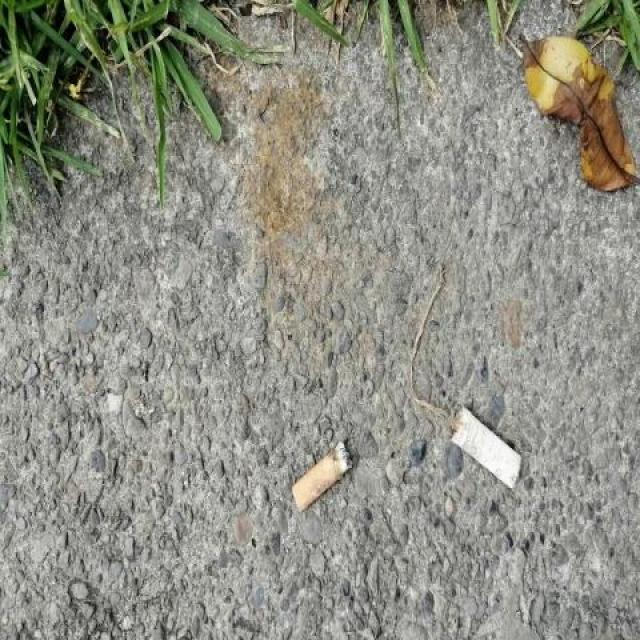non-organic waste: (444, 400, 524, 491), (286, 437, 358, 516)
